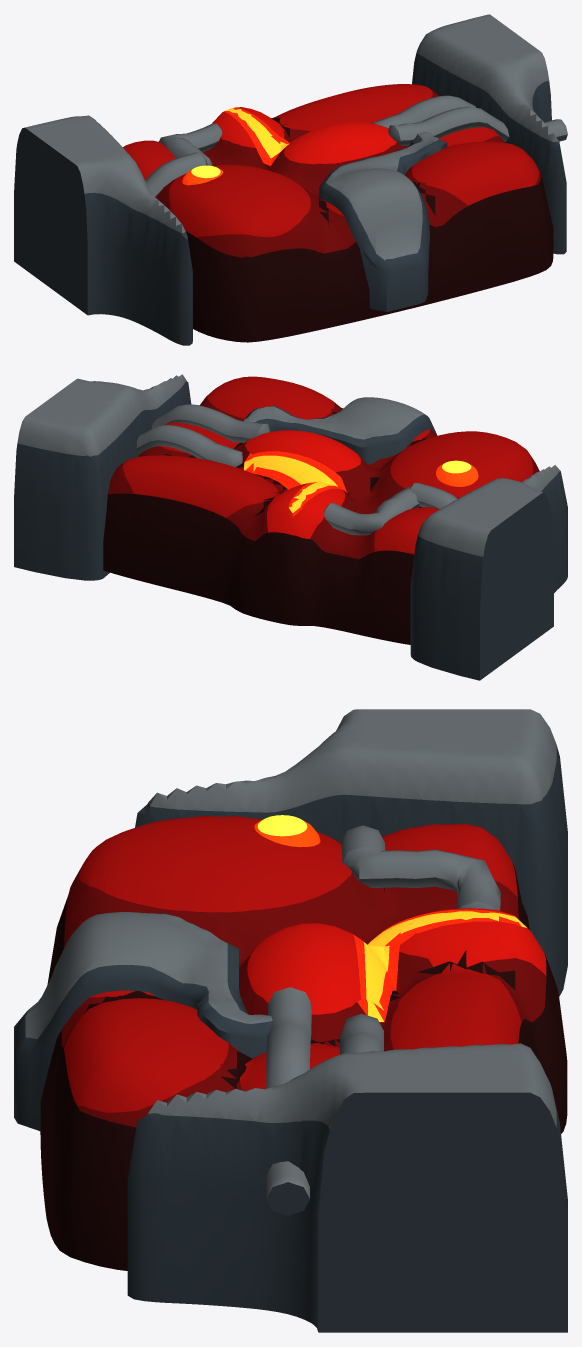
File: brain_clamp.glb
3 views of the same model, one above another, from view 1: azimuth 30°, elevation 25°; view 2: azimuth 150°, elevation 25°; view 3: azimuth 270°, elevation 25° (orthographic). The views are drawn at different scales.
Visible parts, largest first — view 1: brain, bracket_left, bracket_right, strap, rail3, rail2, rail0, rail1, eye; view 2: brain, bracket_left, bracket_right, strap, rail2, rail3, rail1, eye, rail0; view 3: bracket_right, brain, bracket_left, strap, rail3, rail1, rail2, eye, rail0.
Boxes of the visible parts, x1,y1,x2,y2 form: brain: [123, 84, 553, 342]; bracket_left: [14, 115, 192, 345]; bracket_right: [412, 14, 566, 254]; strap: [319, 131, 447, 311]; rail3: [388, 106, 567, 145]; rail2: [372, 95, 475, 128]; rail0: [68, 152, 207, 237]; rail1: [158, 123, 222, 165]; eye: [182, 165, 223, 185]; brain: [103, 376, 539, 644]; bracket_left: [410, 465, 567, 680]; bracket_right: [14, 374, 191, 580]; strap: [243, 397, 436, 464]; rail2: [136, 425, 242, 467]; rail3: [152, 404, 270, 442]; rail1: [324, 486, 419, 535]; eye: [436, 460, 478, 486]; rail0: [409, 483, 545, 566]; bracket_right: [127, 1043, 567, 1332]; brain: [40, 816, 567, 1270]; bracket_left: [135, 709, 567, 996]; strap: [14, 912, 272, 1131]; rail3: [266, 987, 311, 1215]; rail1: [349, 849, 500, 910]; rail2: [340, 1013, 383, 1215]; eye: [254, 815, 320, 847]; rail0: [341, 825, 385, 867].
Bounding box in the file's own units: 24 × 7 × 14.65.
